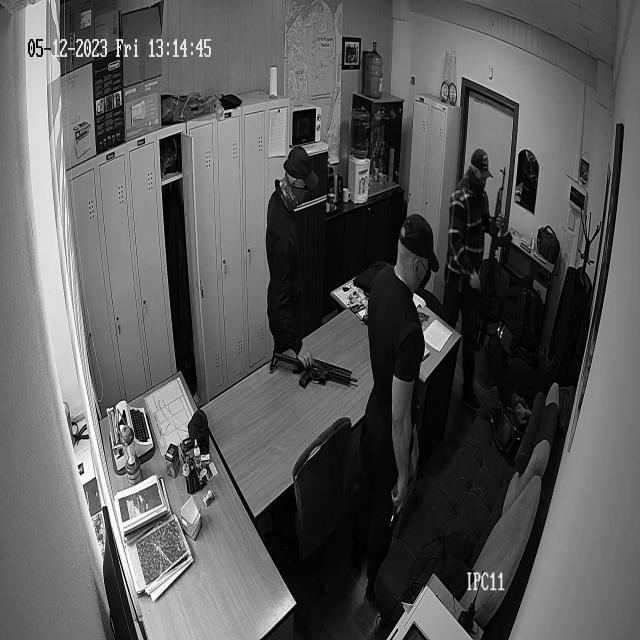gun: (270, 348, 360, 390), (488, 168, 510, 300), (388, 480, 405, 532)
person with a gun: (364, 213, 435, 544), (449, 150, 502, 404), (266, 150, 308, 363)
